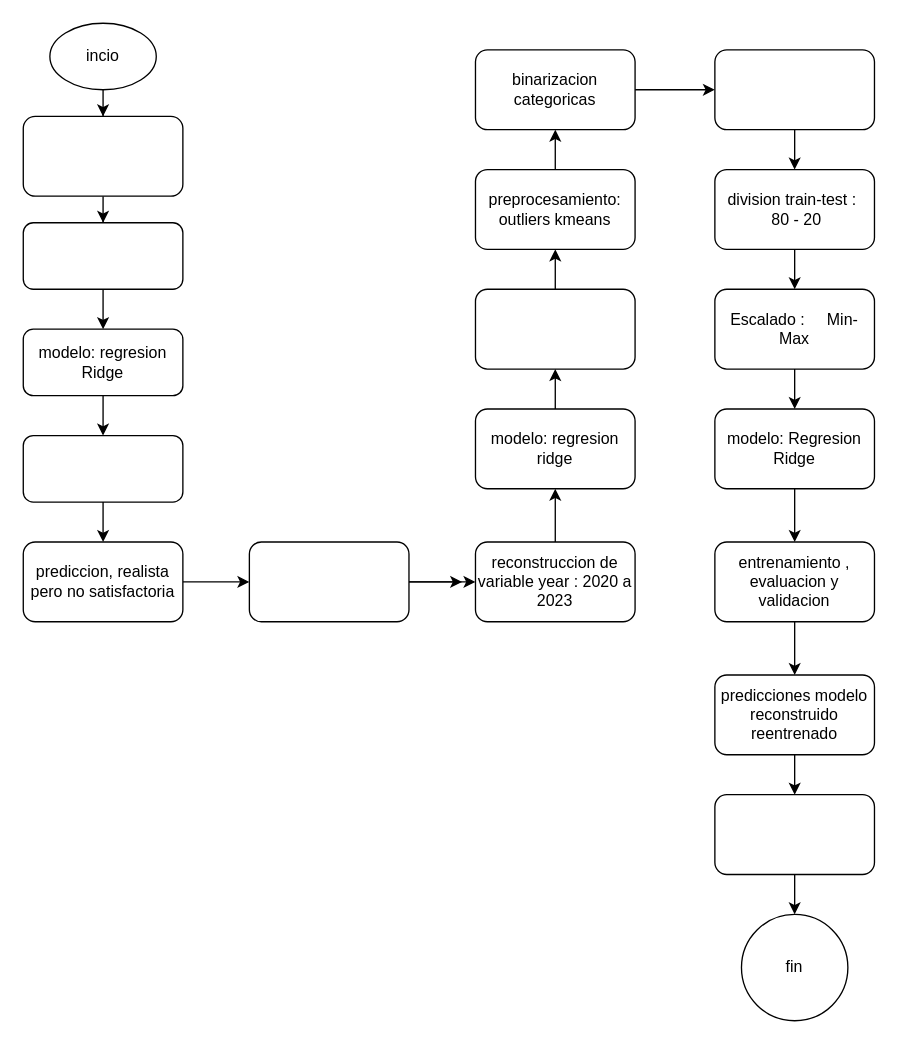
Some shapes in this 898 by 1044 pixel diagram are drawn without their labels. The shapes that lost their labels are listed below. From the top down, each one's box as (x1, y1, x2, y2) in pixels, then its label:
(714, 49, 874, 130): transformacion logaritmica
(22, 115, 183, 196): preprocesamiento
(22, 221, 183, 289): outliers: kmeans
(474, 288, 635, 369): reconstruccion datasset
(22, 434, 183, 502): ajuste +validacion cruzada : ok
(248, 541, 409, 622): ingenieria de caracteristicas
(714, 793, 874, 874): conclusiones , recomendaciones
